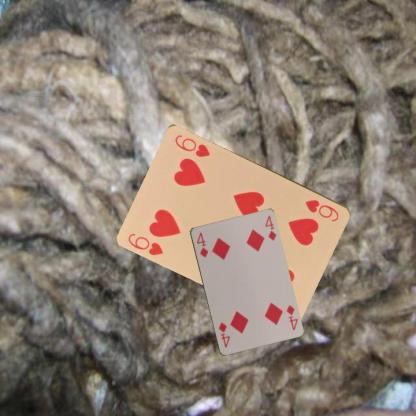4d: (194, 230, 209, 258), (284, 302, 298, 331)
6h: (126, 230, 166, 256), (303, 196, 340, 223)
